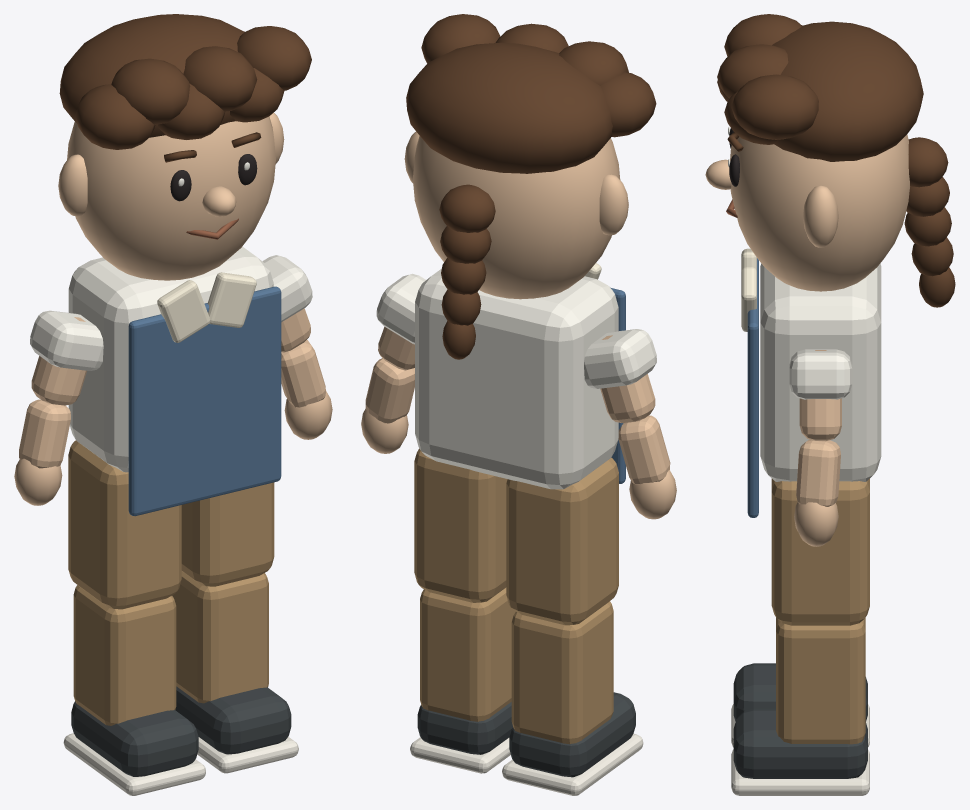
The model's file is merchant.glb.
3 renders of one model, left to right at view 1: azimuth 30°, elevation 25°; view 2: azimuth 150°, elevation 25°; view 3: azimuth 270°, elevation 25°, orthographic.
Visible parts, largest first — view 1: module__outfit__apron__torso_mesh, module__hair__braid__head_mesh, student_head, student_knee_left_mesh, student_knee_right_mesh, trouser_thigh, trouser_thigh.001, student_elbow_left_mesh, student_elbow_right_mesh, sleeve.001, upper_arm, sleeve.004 (+3 smaller); view 2: module__hair__braid__head_mesh, module__outfit__apron__torso_mesh, student_knee_left_mesh, student_head, student_knee_right_mesh, trouser_thigh, trouser_thigh.001, student_elbow_left_mesh, student_elbow_right_mesh, sleeve.001, sleeve.004, upper_arm (+2 smaller); view 3: module__hair__braid__head_mesh, module__outfit__apron__torso_mesh, student_knee_right_mesh, student_head, trouser_thigh.001, student_elbow_right_mesh, sleeve.004, student_knee_left_mesh, ear.001, upper_arm.001, student_nose.
Part boxes in pixels (left/top/right/bottom): module__outfit__apron__torso_mesh: left=68, top=246, right=281, bottom=516; module__hair__braid__head_mesh: left=59, top=14, right=311, bottom=149; student_head: left=67, top=116, right=275, bottom=280; student_knee_left_mesh: left=63, top=585, right=205, bottom=795; student_knee_right_mesh: left=172, top=571, right=298, bottom=773; trouser_thigh: left=68, top=440, right=181, bottom=609; trouser_thigh.001: left=181, top=482, right=274, bottom=586; student_elbow_left_mesh: left=14, top=399, right=70, bottom=505; student_elbow_right_mesh: left=281, top=340, right=332, bottom=439; sleeve.001: left=30, top=310, right=103, bottom=370; upper_arm: left=31, top=317, right=86, bottom=405; sleeve.004: left=262, top=255, right=312, bottom=322; module__hair__braid__head_mesh: left=406, top=14, right=656, bottom=359; module__outfit__apron__torso_mesh: left=415, top=263, right=625, bottom=489; student_knee_left_mesh: left=502, top=601, right=643, bottom=795; student_head: left=413, top=136, right=620, bottom=299; student_knee_right_mesh: left=410, top=587, right=515, bottom=773; trouser_thigh: left=506, top=457, right=618, bottom=625; trouser_thigh.001: left=414, top=448, right=507, bottom=602; student_elbow_left_mesh: left=618, top=415, right=676, bottom=519; student_elbow_right_mesh: left=361, top=358, right=414, bottom=453; sleeve.001: left=584, top=329, right=656, bottom=388; sleeve.004: left=376, top=273, right=425, bottom=344; upper_arm: left=600, top=335, right=655, bottom=422; module__hair__braid__head_mesh: left=717, top=14, right=955, bottom=307; module__outfit__apron__torso_mesh: left=741, top=248, right=881, bottom=517; student_knee_right_mesh: left=731, top=617, right=869, bottom=795; student_head: left=730, top=134, right=909, bottom=291; trouser_thigh.001: left=771, top=478, right=869, bottom=625; student_elbow_right_mesh: left=794, top=439, right=840, bottom=546; sleeve.004: left=789, top=349, right=852, bottom=399; student_knee_left_mesh: left=731, top=663, right=869, bottom=747; ear.001: left=803, top=185, right=838, bottom=247; upper_arm.001: left=799, top=350, right=841, bottom=440; student_nose: left=705, top=159, right=731, bottom=189.
Bounding box in the file's own units: 0.81 × 1.77 × 0.559.
